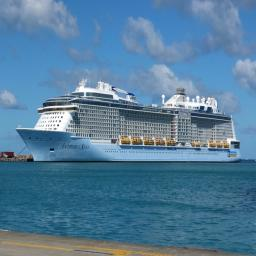cruises: (16, 79, 244, 166)
